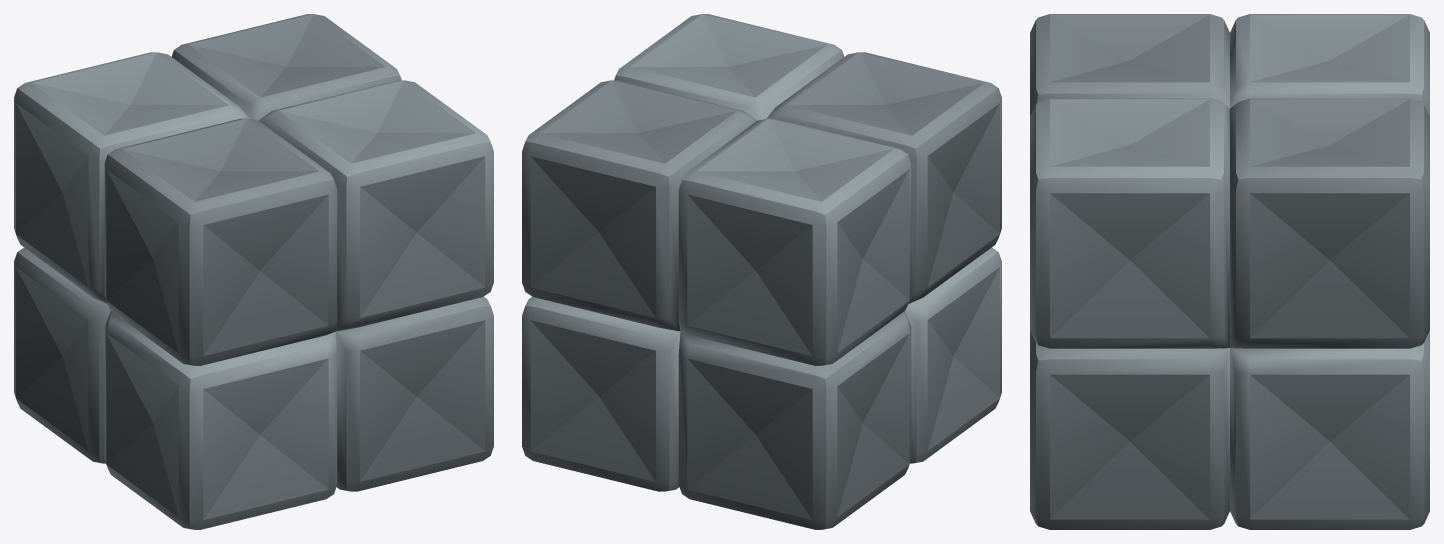
The model's file is metal.glb.
3 views of the same model, side by side, from view 1: azimuth 30°, elevation 25°; view 2: azimuth 150°, elevation 25°; view 3: azimuth 270°, elevation 25° (orthographic). The views are drawn at different scales.
Parts seen in each view (by area): view 1: metal; view 2: metal; view 3: metal.
Boxes of the visible parts, x1,y1,x2,y2 form: metal: (14,14,493,529); metal: (522,14,1001,529); metal: (1030,14,1429,529).
Bounding box in the file's own units: 2 × 2 × 2.
1 material, 1 textured.
